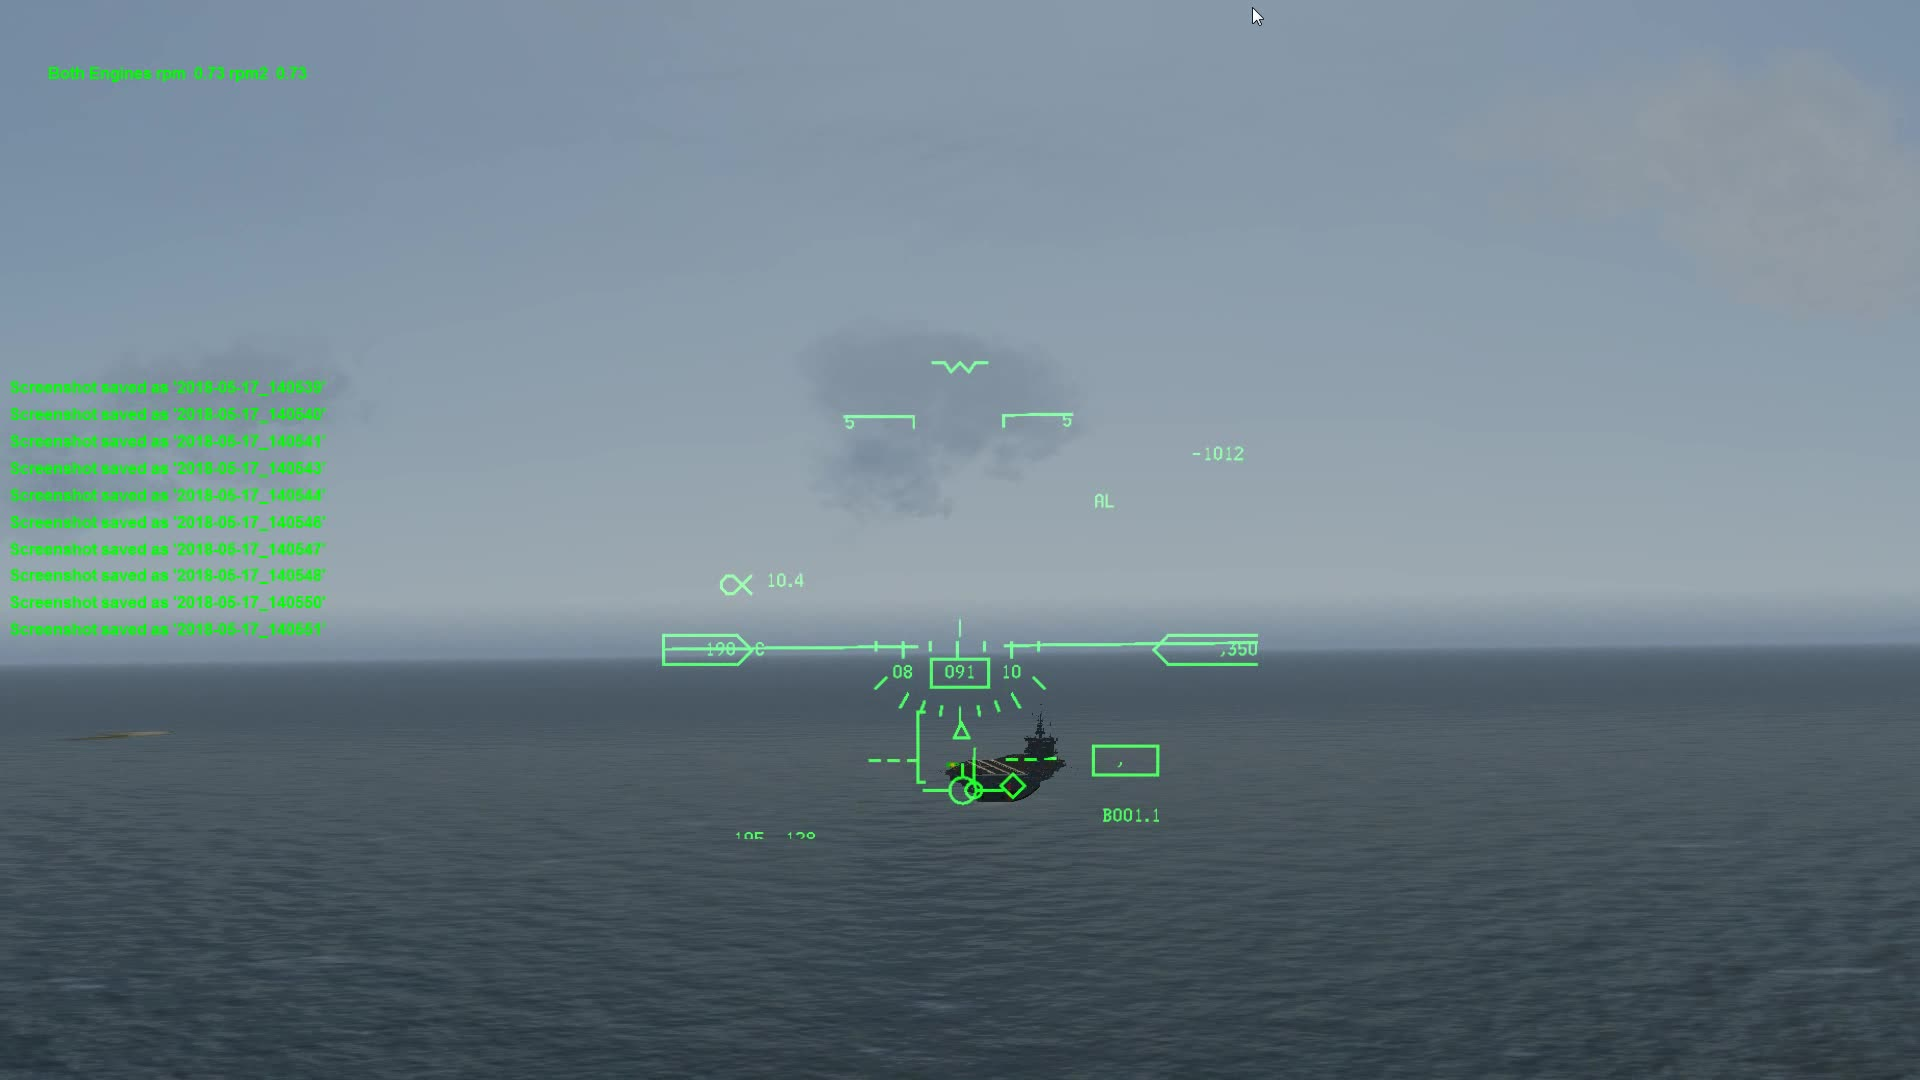speed vector: (924, 760, 993, 814)
